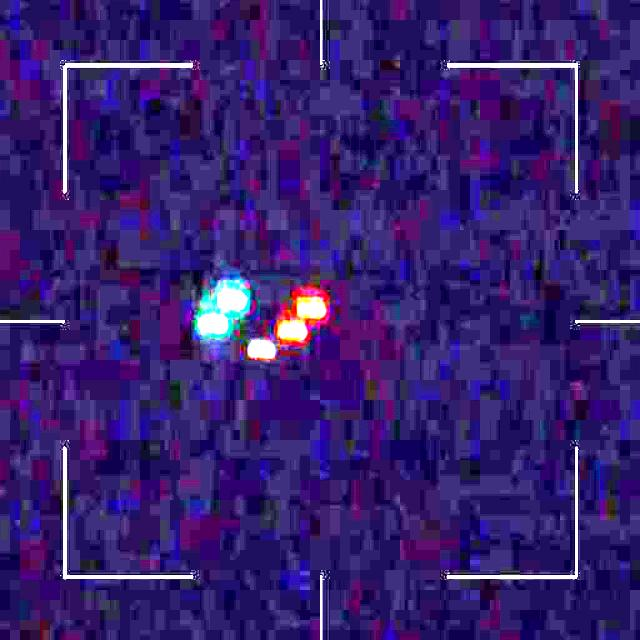bird: (198, 288, 325, 361)
